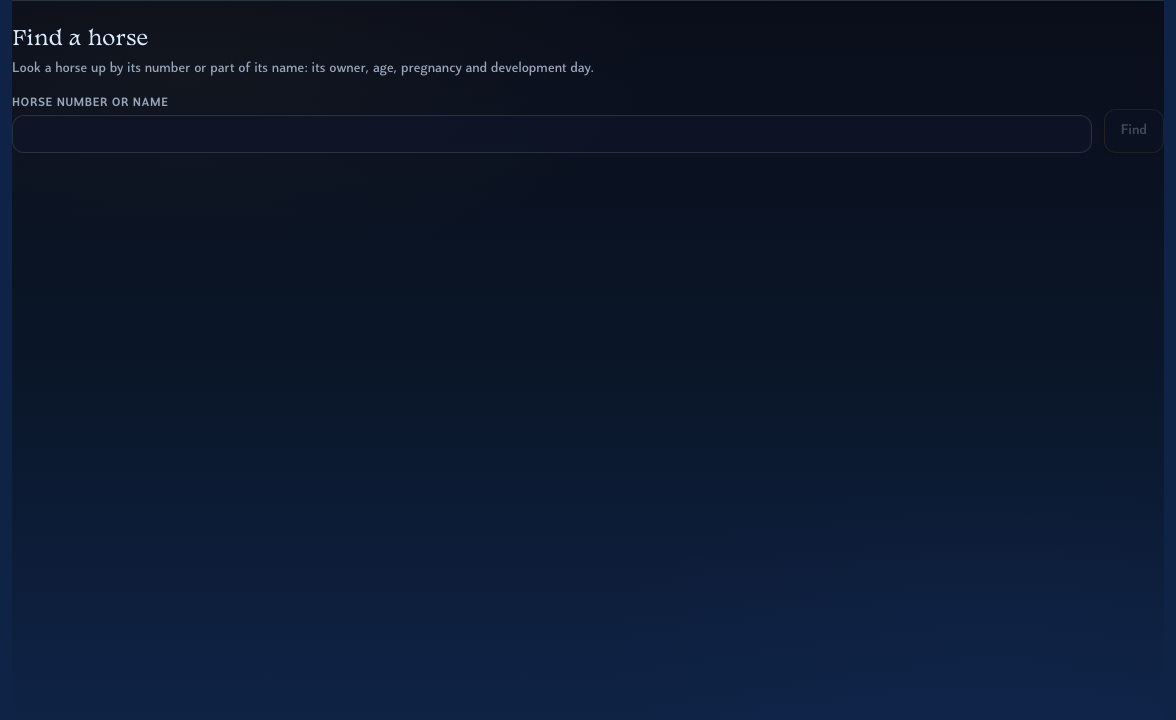
it: StaffHorseLookup › shows the refusal in words, never the server’s
In the field labelled "Horse number or name": (552, 134) [12,115,1092,153], type "42"
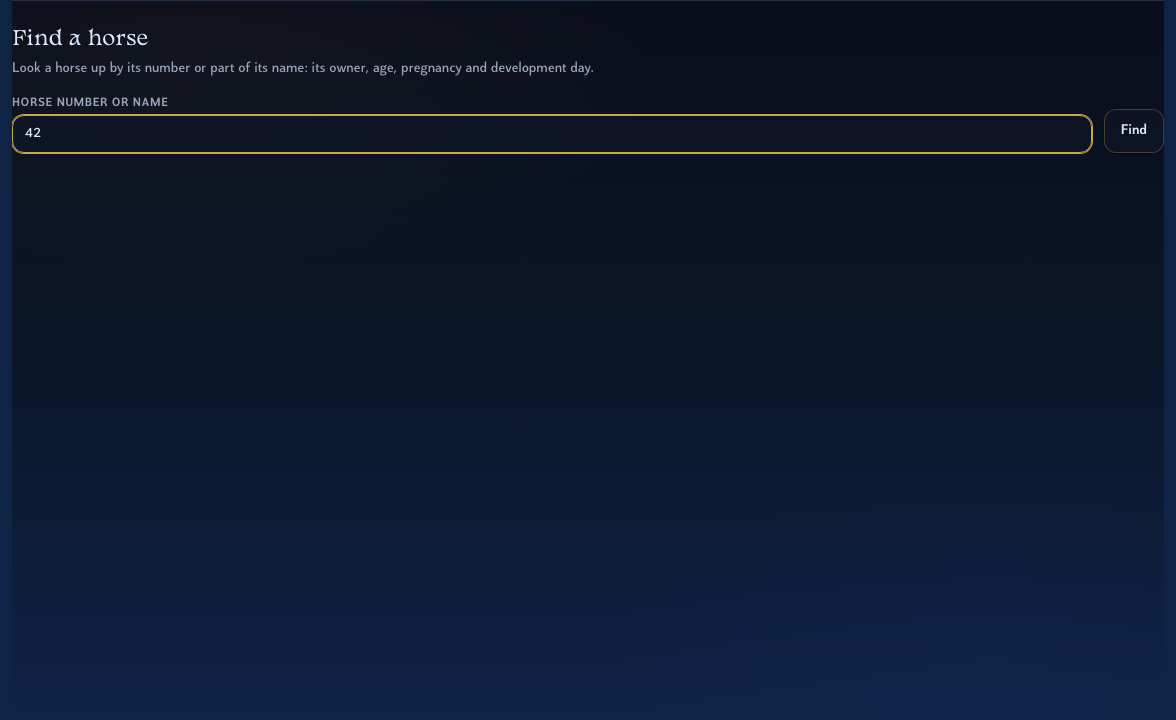
Click the button "Find": click(1134, 131) [1104,109,1164,153]
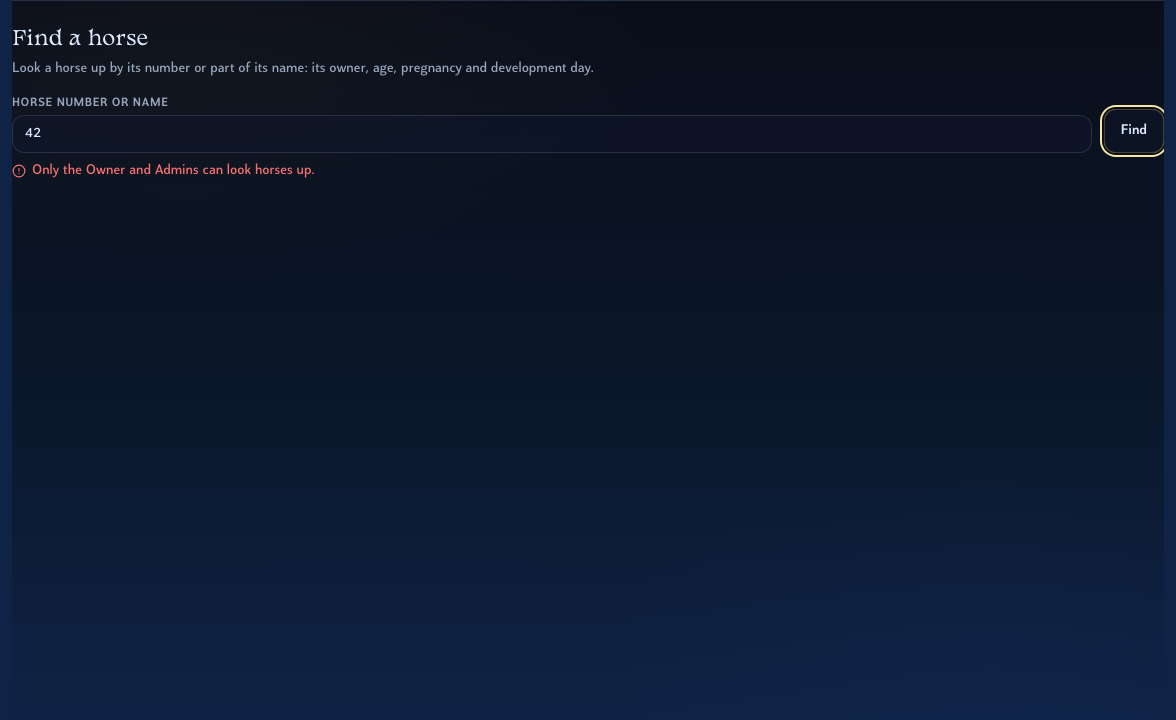
Result: the text "Only the Owner and Admins can look horses up." is shown at [32,161,315,181]
